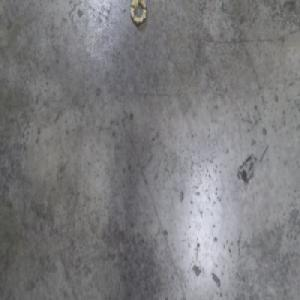Nut: (129, 0, 147, 29)
